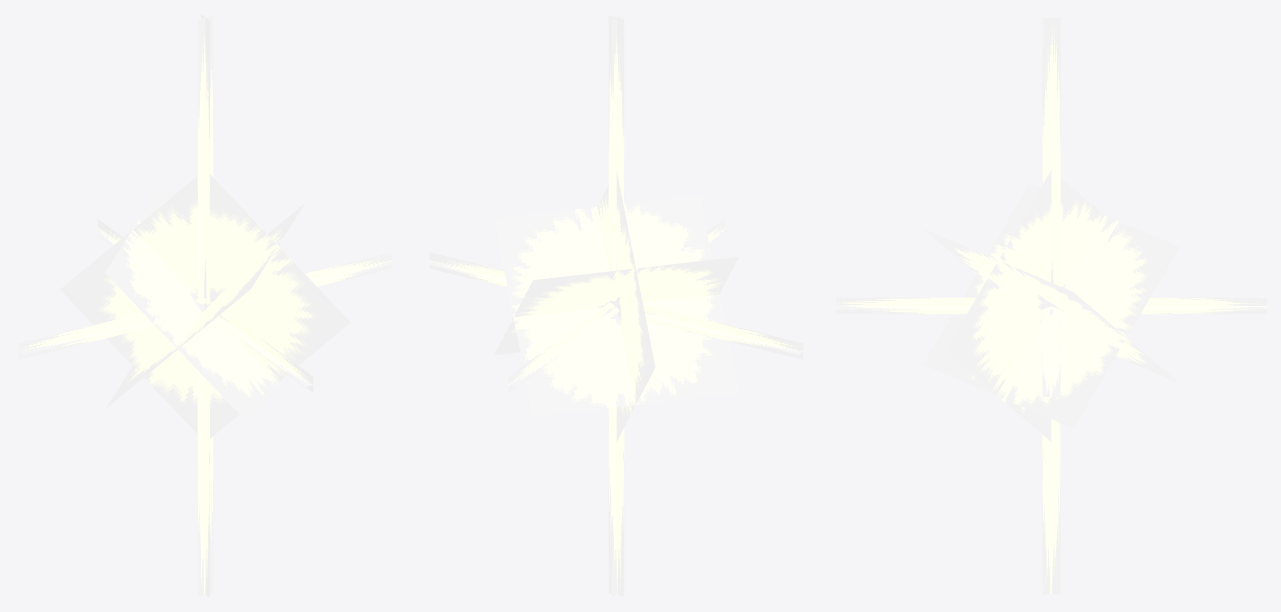
File: sfx_spirit_lower_modelstudentbag_yellow.glb
The picture shows the model from 3 angles, left to right: view 1: azimuth 30°, elevation 25°; view 2: azimuth 150°, elevation 25°; view 3: azimuth 270°, elevation 25°; orthographic projection.
Visible parts, largest first — view 1: sfx_spirit_lower_modelstudentbag_yellow_obj0; view 2: sfx_spirit_lower_modelstudentbag_yellow_obj0; view 3: sfx_spirit_lower_modelstudentbag_yellow_obj0.
Boxes of the visible parts, left/top/right/bottom form: sfx_spirit_lower_modelstudentbag_yellow_obj0: left=14, top=14, right=396, bottom=597; sfx_spirit_lower_modelstudentbag_yellow_obj0: left=425, top=14, right=807, bottom=597; sfx_spirit_lower_modelstudentbag_yellow_obj0: left=836, top=17, right=1266, bottom=594.
Bounding box in the file's own units: 1.22 × 1.8 × 1.22.
Materials: 1 (1 with a texture image).
